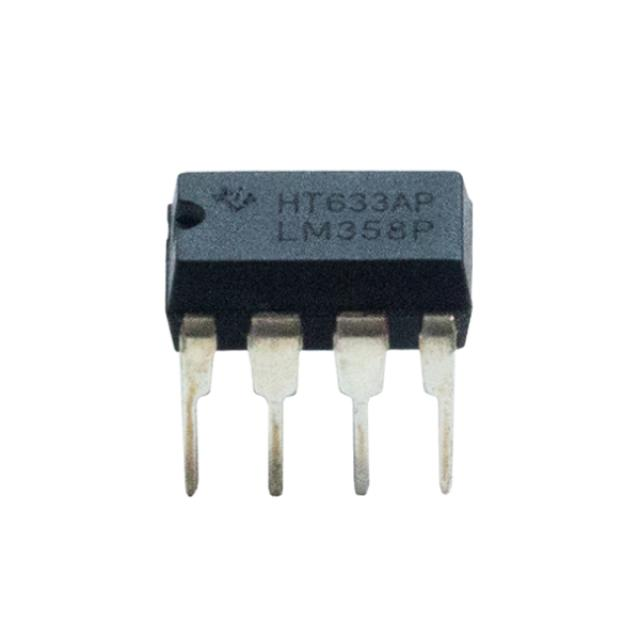IC: (165, 170, 467, 502)
